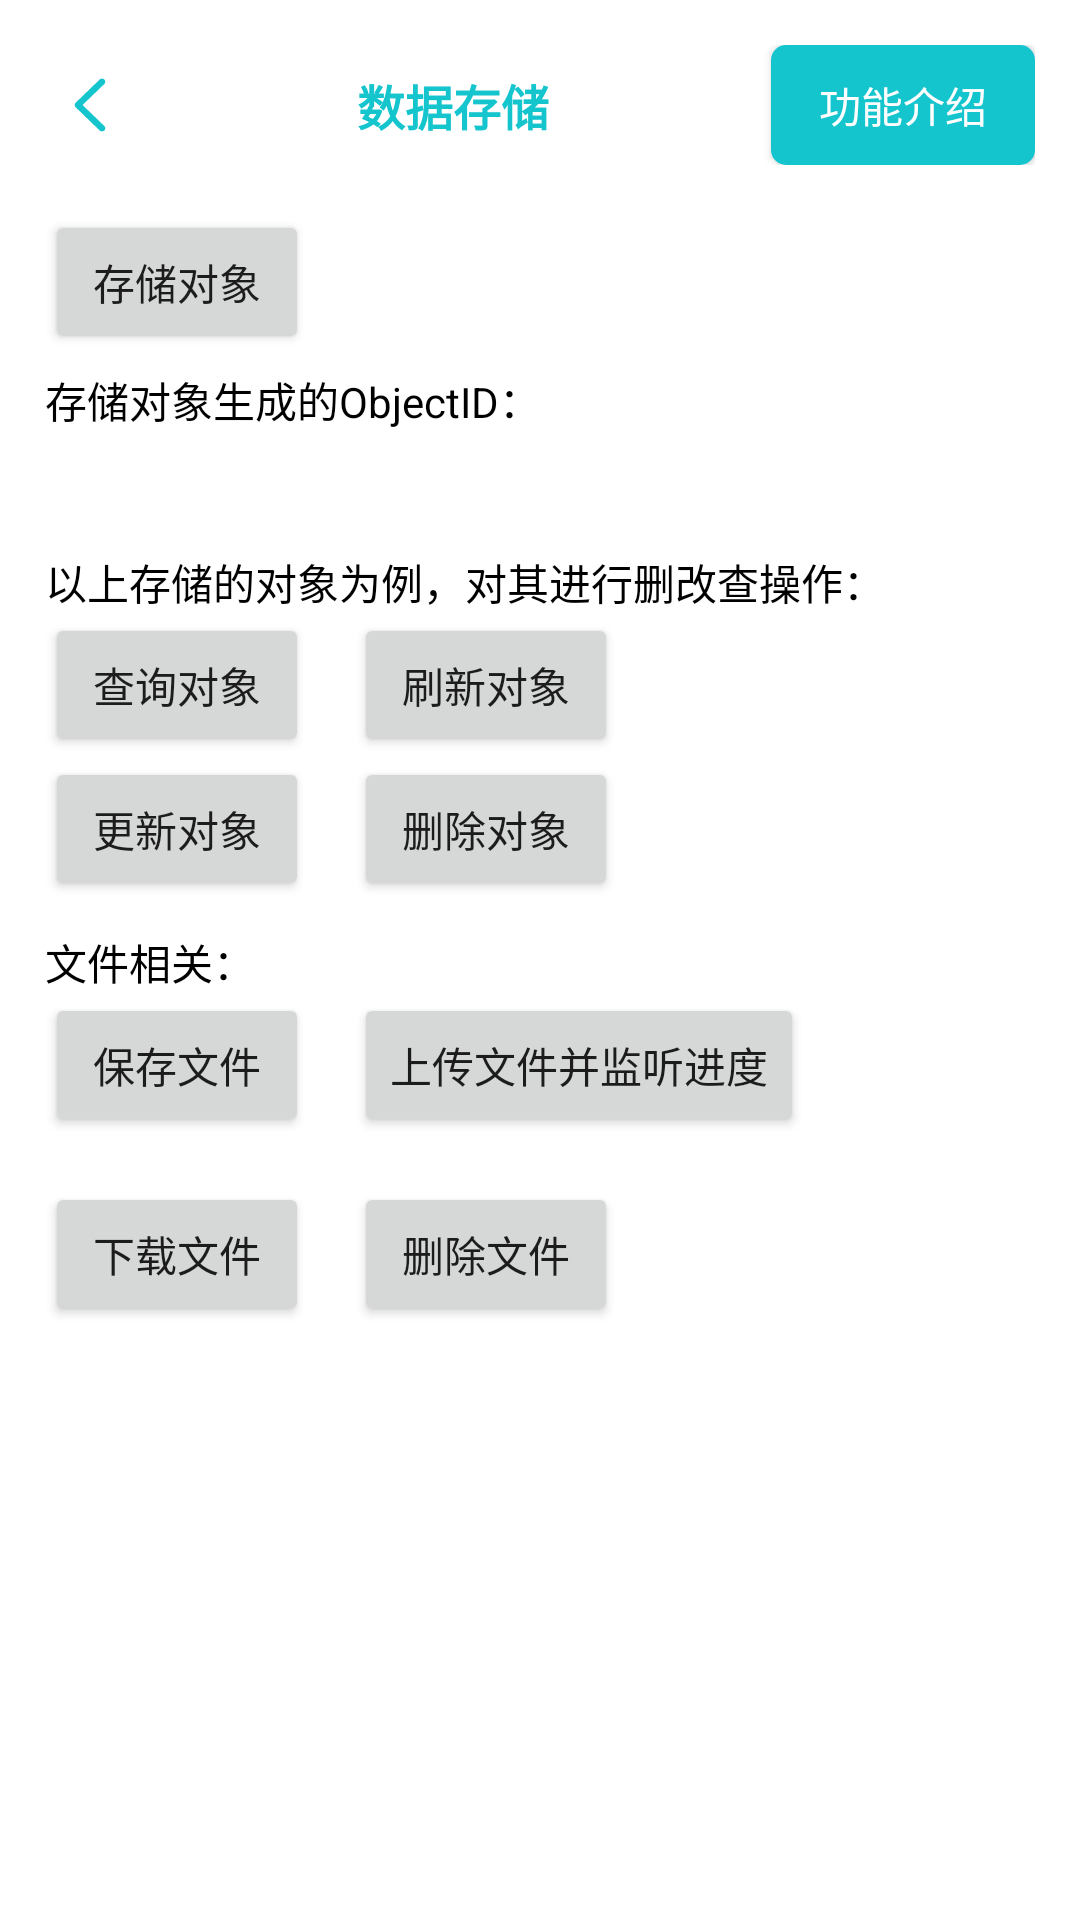

Locate icon controls on the screen. Image size 1080w x 1920h, boxes as (x1, y1, x2, y2).
back: (74, 78, 106, 132)
